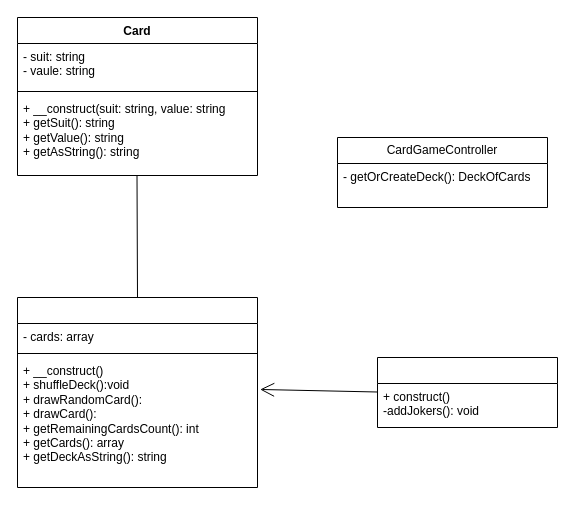
Some shapes in this 575 by 508 pixel diagram are drawn without their labels. The box of each missing label's shape, as (x1, y1, x2, y2) in pixels:
DeckOfCards: (16, 296, 258, 488)
JokerDeck: (376, 356, 558, 428)
